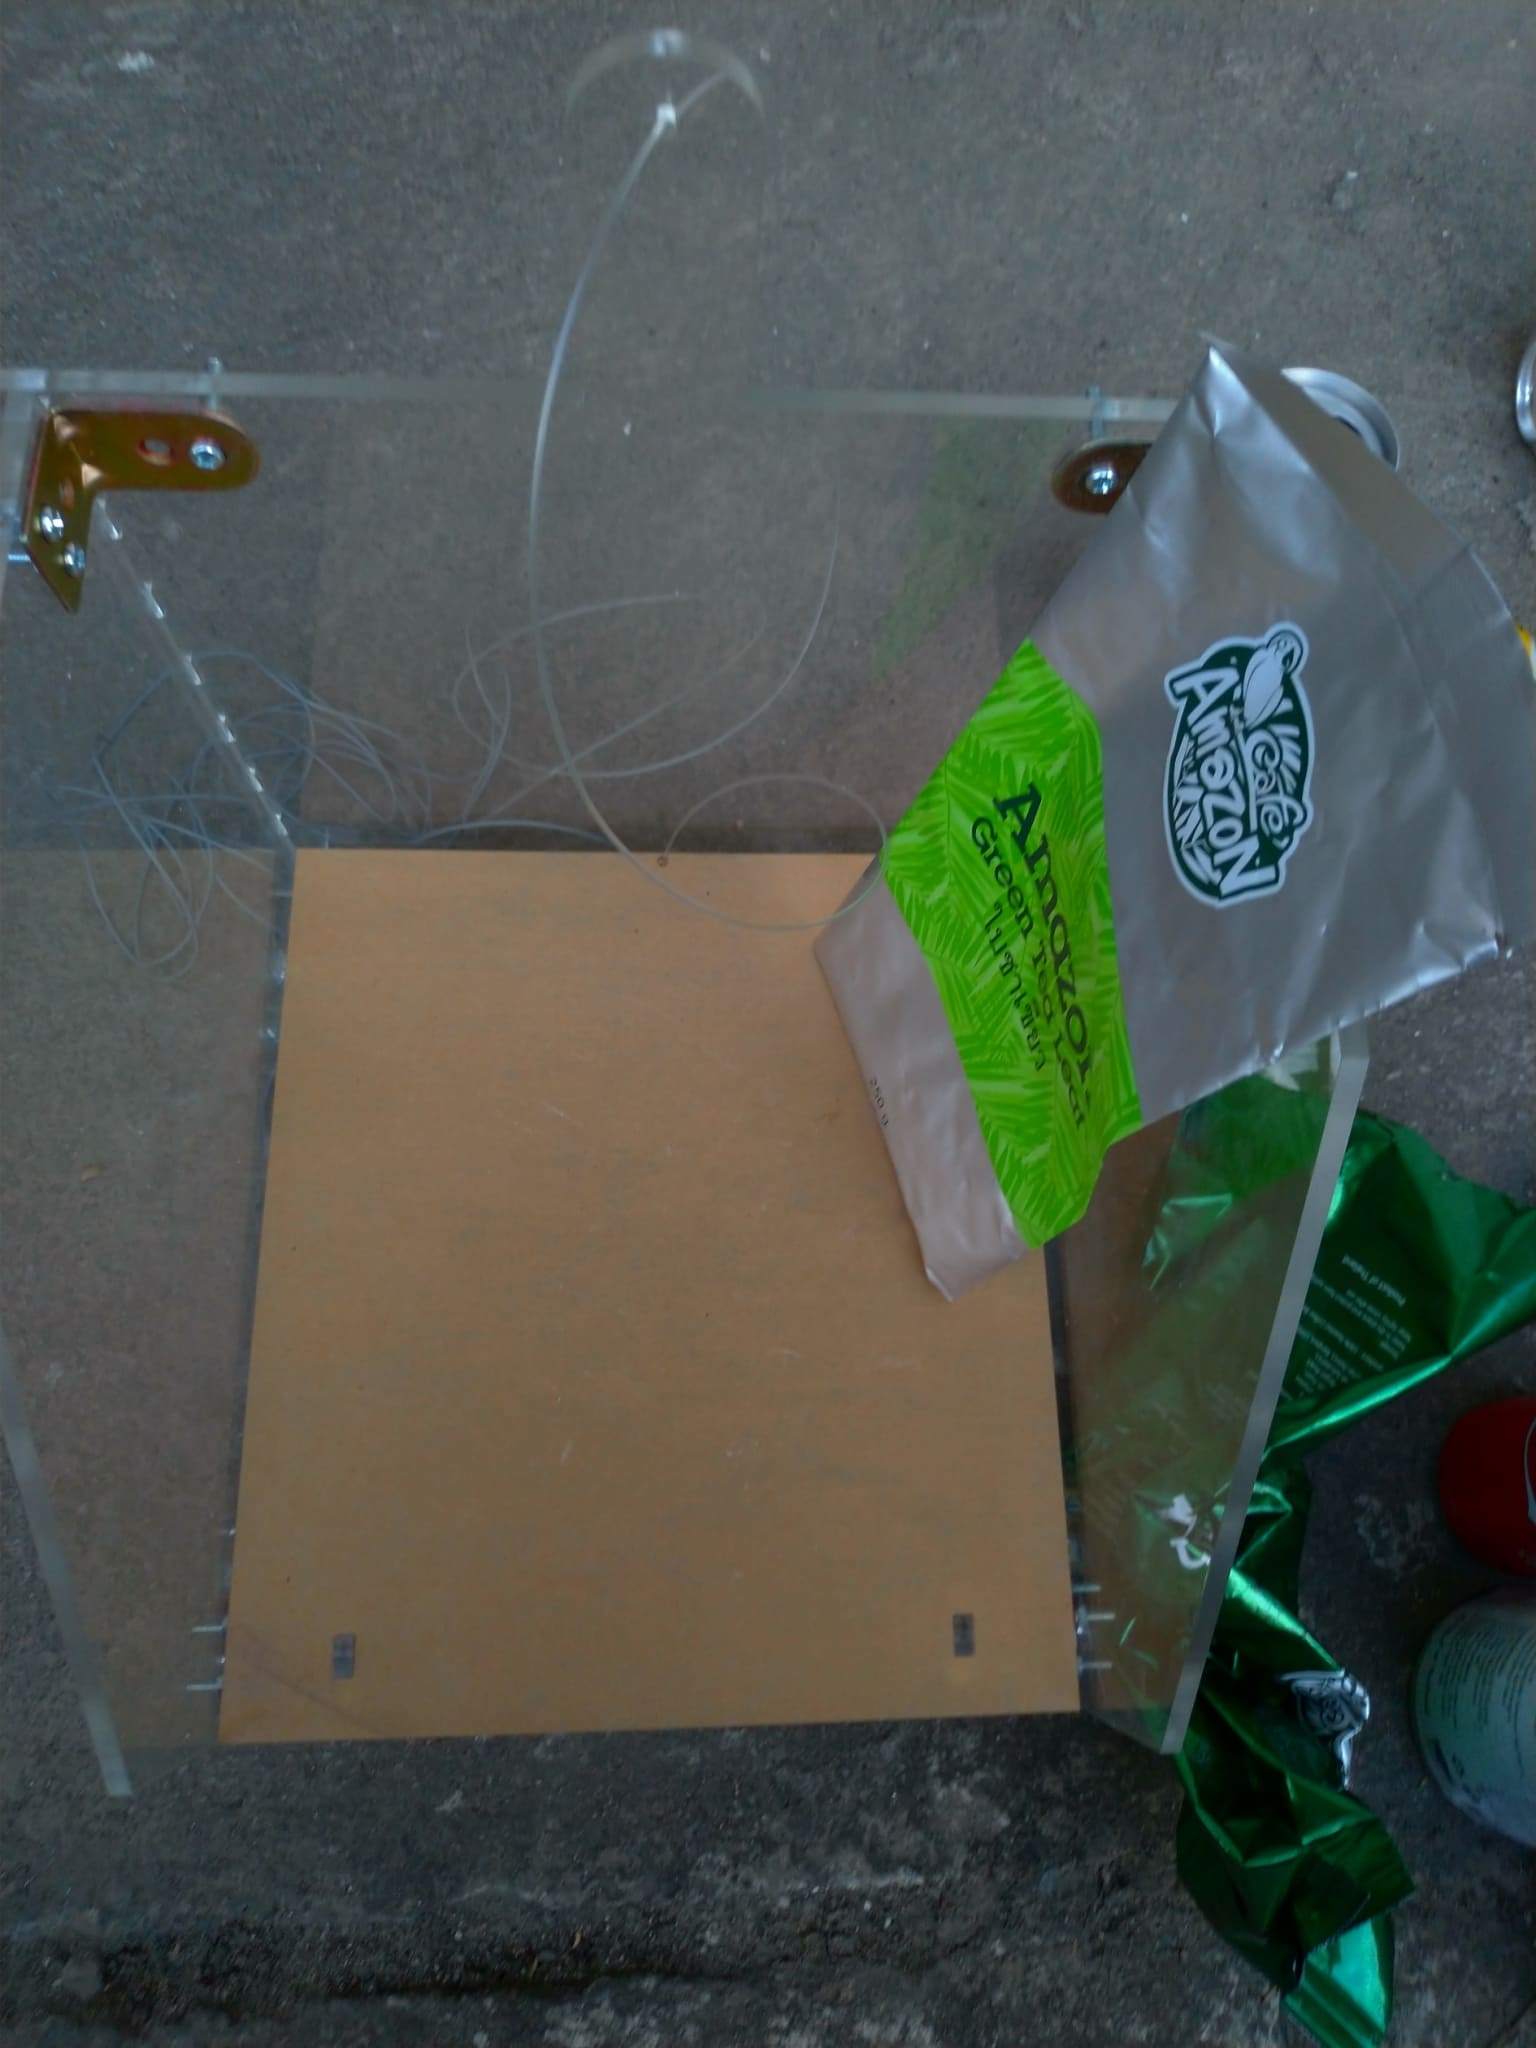Others: (820, 348, 1536, 1305), (1084, 1098, 1483, 2042)
